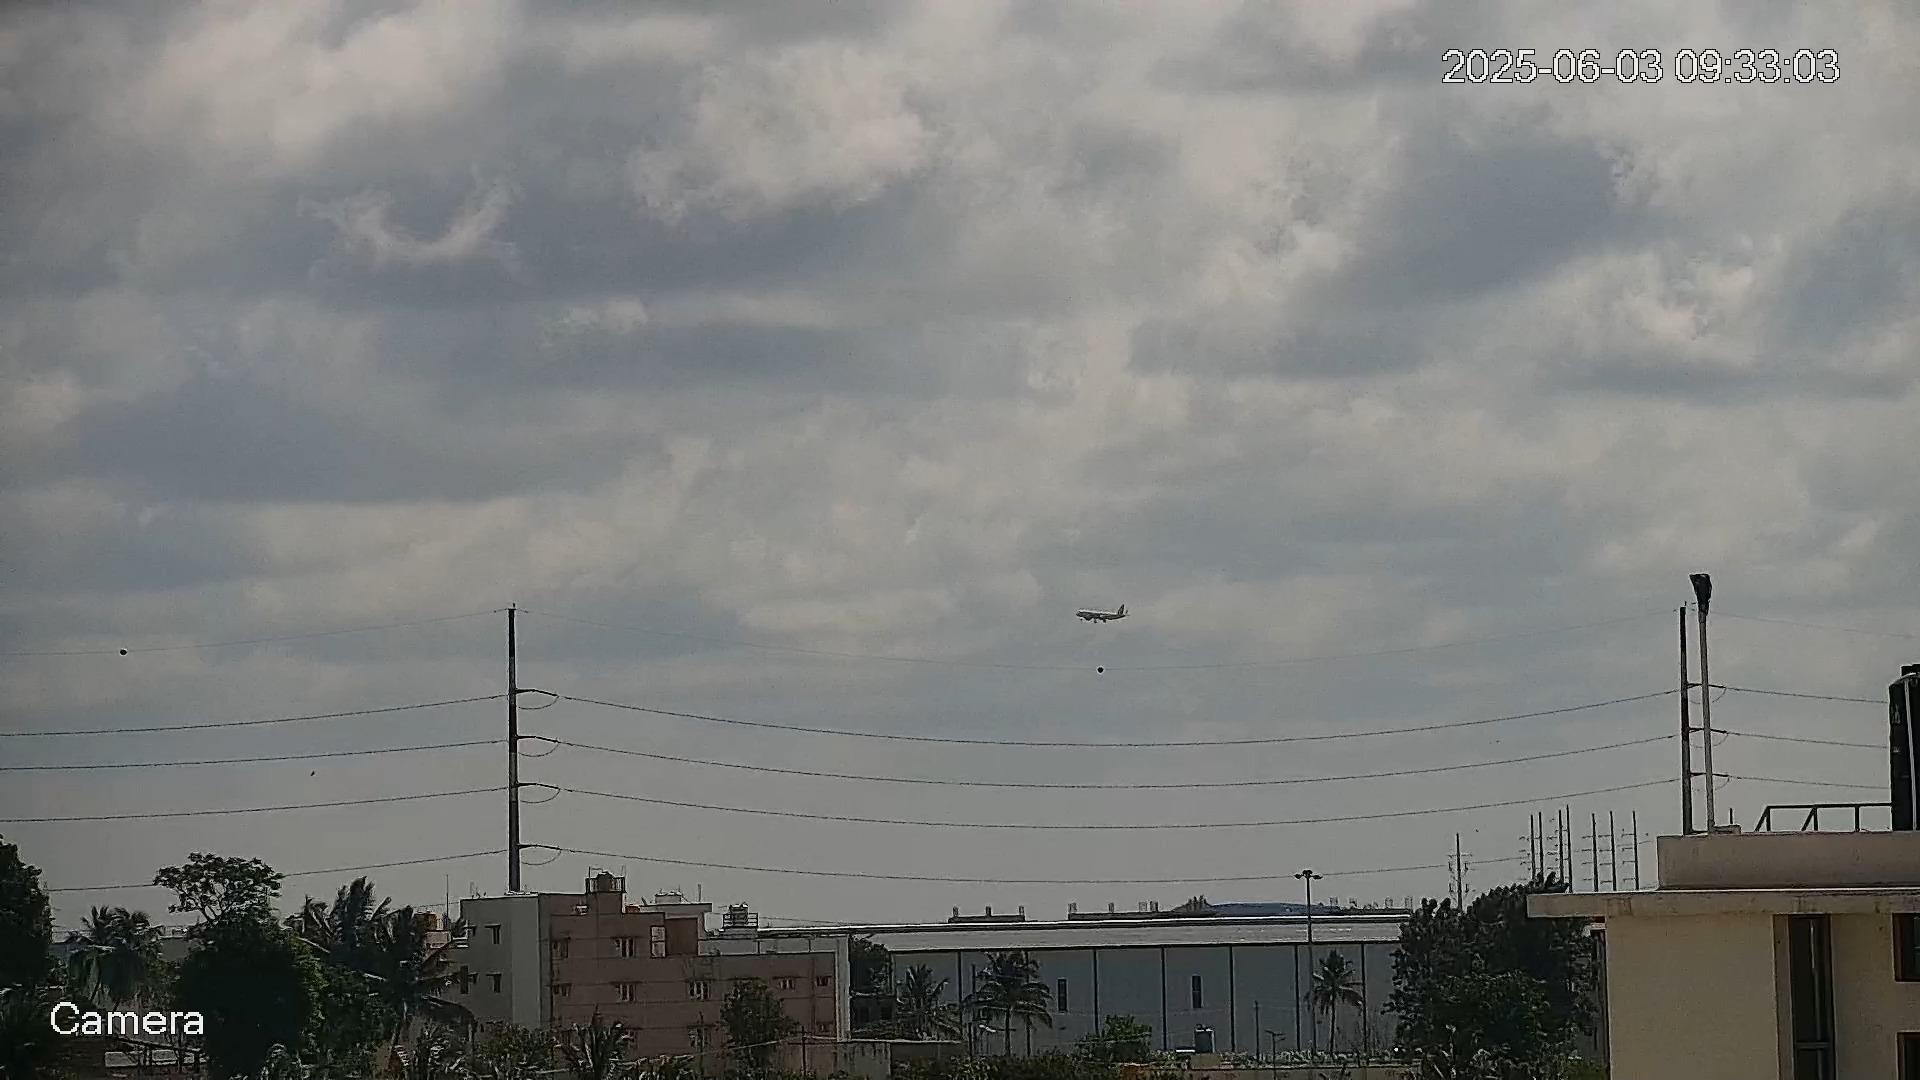Aircraft: (1072, 599, 1131, 628)
